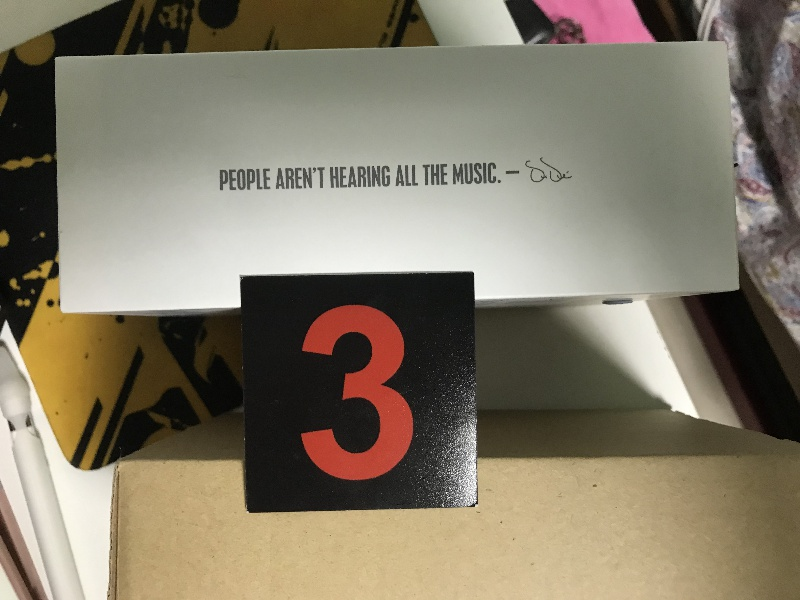Three-8: (246, 278, 474, 504)
